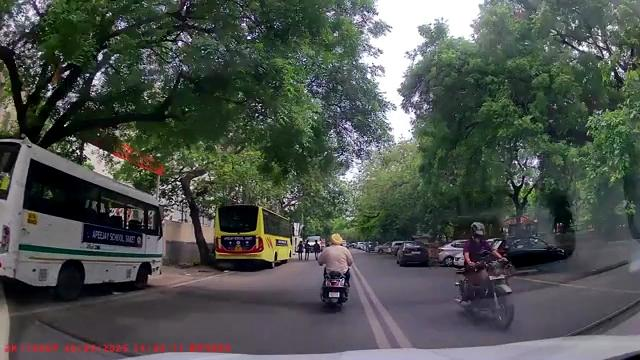motorcycle_with_helmet: (453, 219, 516, 333), (316, 231, 355, 313)
